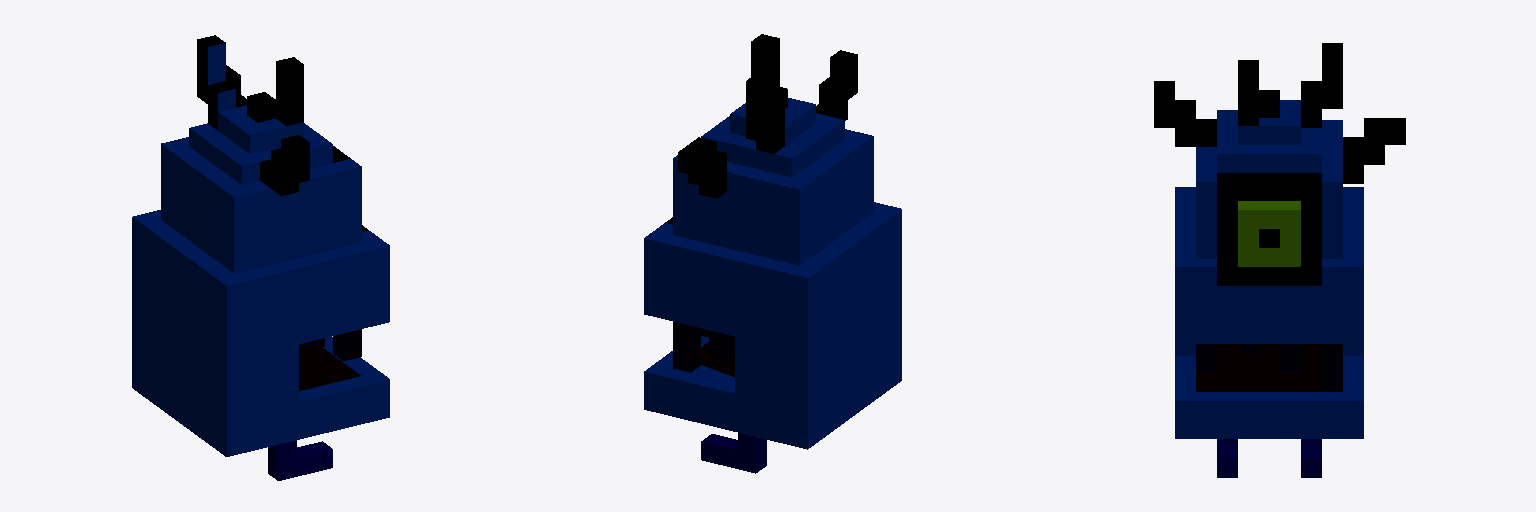
The model's file is blueMonster.obj.
3 views of the same model, side by side, from view 1: azimuth 30°, elevation 25°; view 2: azimuth 150°, elevation 25°; view 3: azimuth 270°, elevation 25° (orthographic).
Parts seen in each view (by area): view 1: Untitled; view 2: Untitled; view 3: Untitled.
Part boxes in pixels (x1,y1,x2,y2): Untitled: (132,35,389,480); Untitled: (644,34,901,473); Untitled: (1154,43,1405,477).
Bounding box in the file's own units: 0.9 × 2.1 × 1.2.